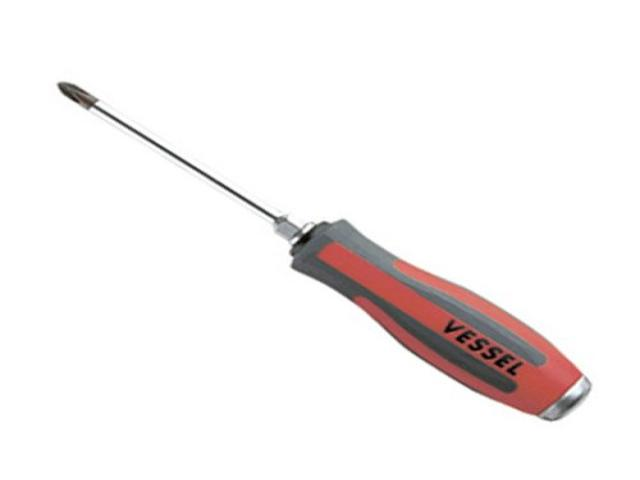Screwdriver: (59, 83, 591, 420)
